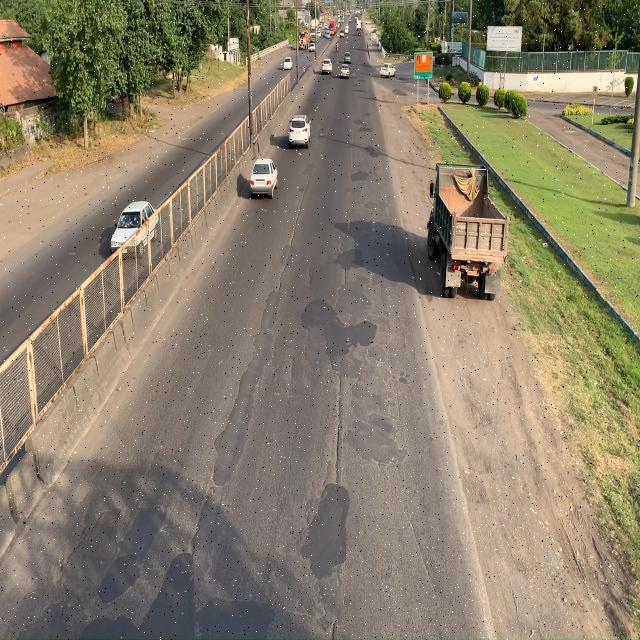Truck: (425, 160, 510, 303)
cars: (112, 196, 158, 260), (248, 156, 280, 201), (286, 114, 312, 149)
